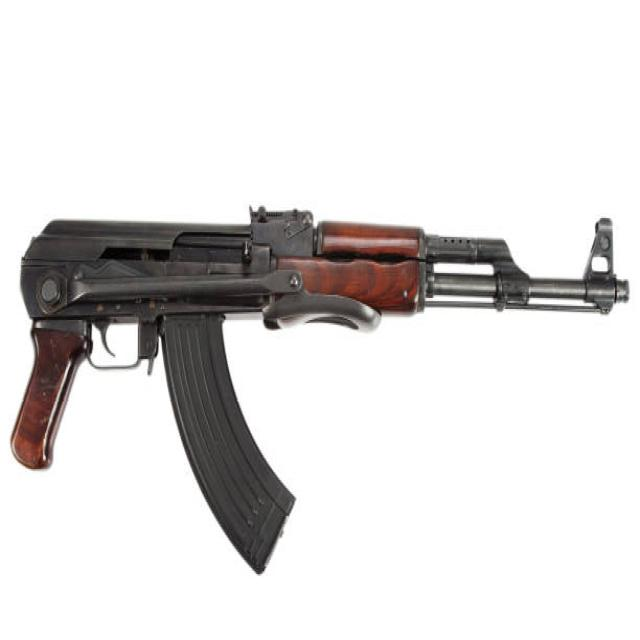rifle: (7, 176, 634, 586)
